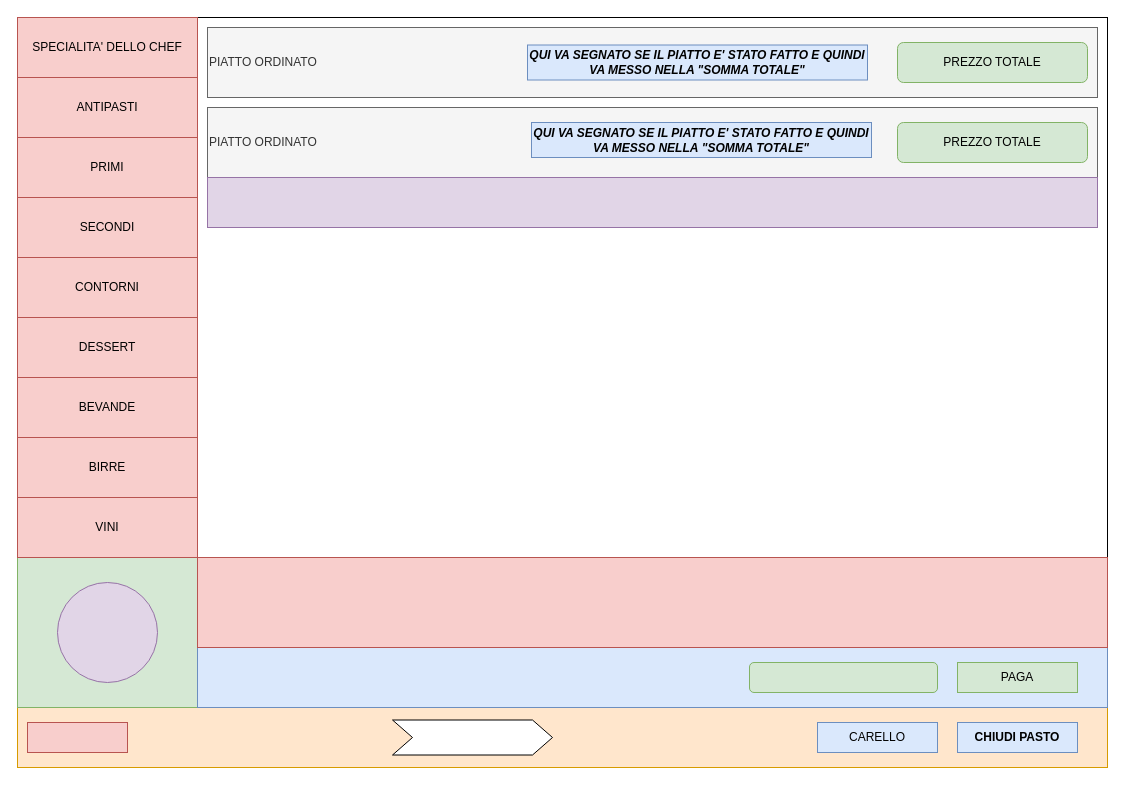
This 1125x785 diagram has some shape labels left out. The shapes that lost their labels are listed below. From the top down, each one's centre as x and y in pixels, then its label:
At (652,202): "QUI VERRANNO SEGNALATI GLI ALLERGENI".
At (652,602): "QUI VA LA RECENSIONE CON STELLE E COMMENTO".
At (107,632): "CAMERIERE".
At (843,677): "SOMMA TOTALE".
At (77,737): "LOGOUT".
At (472,737): "NOME TAVOLO".
